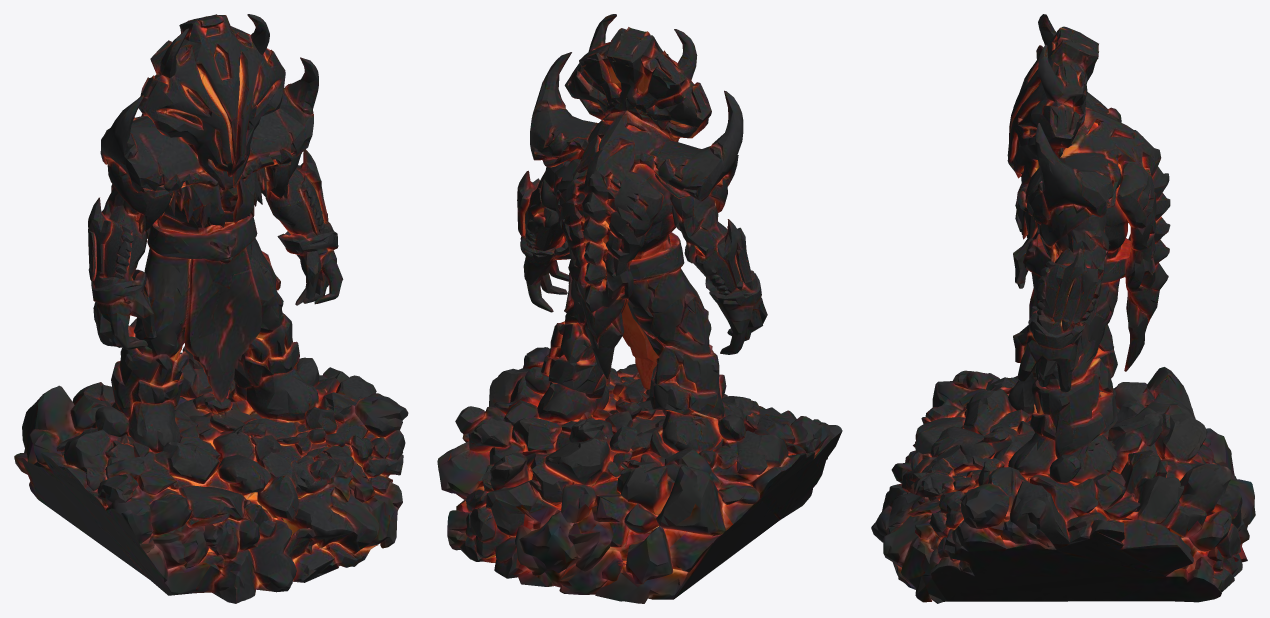
Rendered from raid_ignir.glb.
3 renders of one model, left to right at view 1: azimuth 30°, elevation 25°; view 2: azimuth 150°, elevation 25°; view 3: azimuth 270°, elevation 25°, orthographic. The views are drawn at different scales.
Bounding box in the file's own units: 1.22 × 1.9 × 1.28.
Materials: 1 (1 with a texture image).
